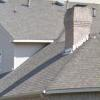Chimney: (60, 1, 98, 53)
